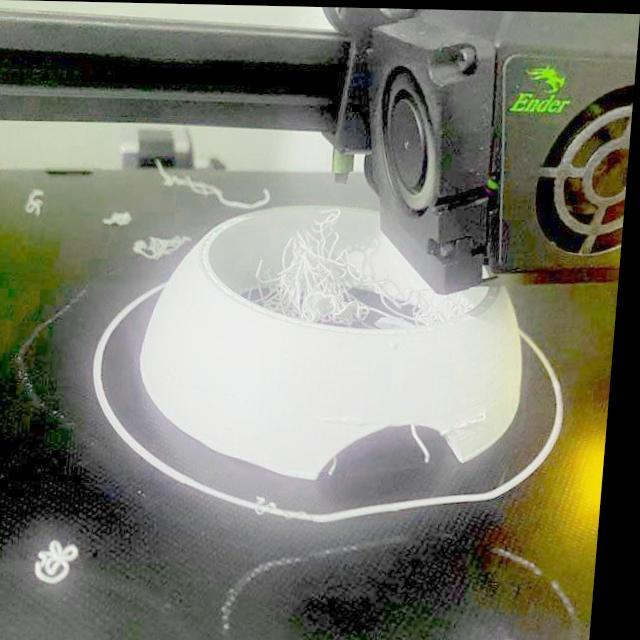spaghetti: (239, 202, 490, 344), (153, 154, 276, 212), (135, 230, 200, 267)
